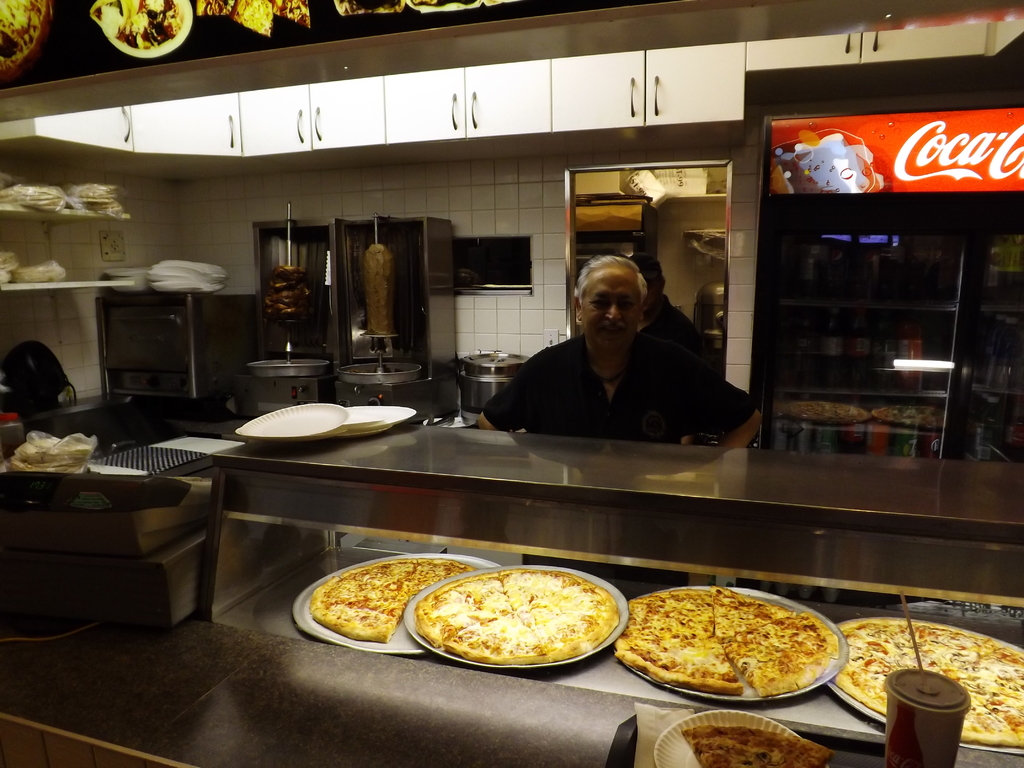Pizza: (612, 638, 737, 691), (682, 730, 832, 767), (945, 662, 1020, 721), (728, 642, 818, 690), (752, 608, 833, 656), (629, 604, 705, 645), (716, 601, 796, 637), (959, 695, 1018, 741), (324, 606, 392, 644), (846, 633, 907, 674), (864, 618, 922, 661), (833, 665, 886, 712), (419, 584, 488, 616), (461, 568, 505, 615), (961, 637, 1023, 668), (922, 617, 964, 662), (536, 620, 595, 650), (452, 618, 494, 658), (412, 607, 468, 636), (657, 593, 706, 624), (421, 554, 469, 584), (374, 558, 415, 593), (504, 616, 535, 659), (515, 570, 556, 601), (544, 588, 603, 609), (314, 574, 345, 608), (339, 568, 376, 596)
